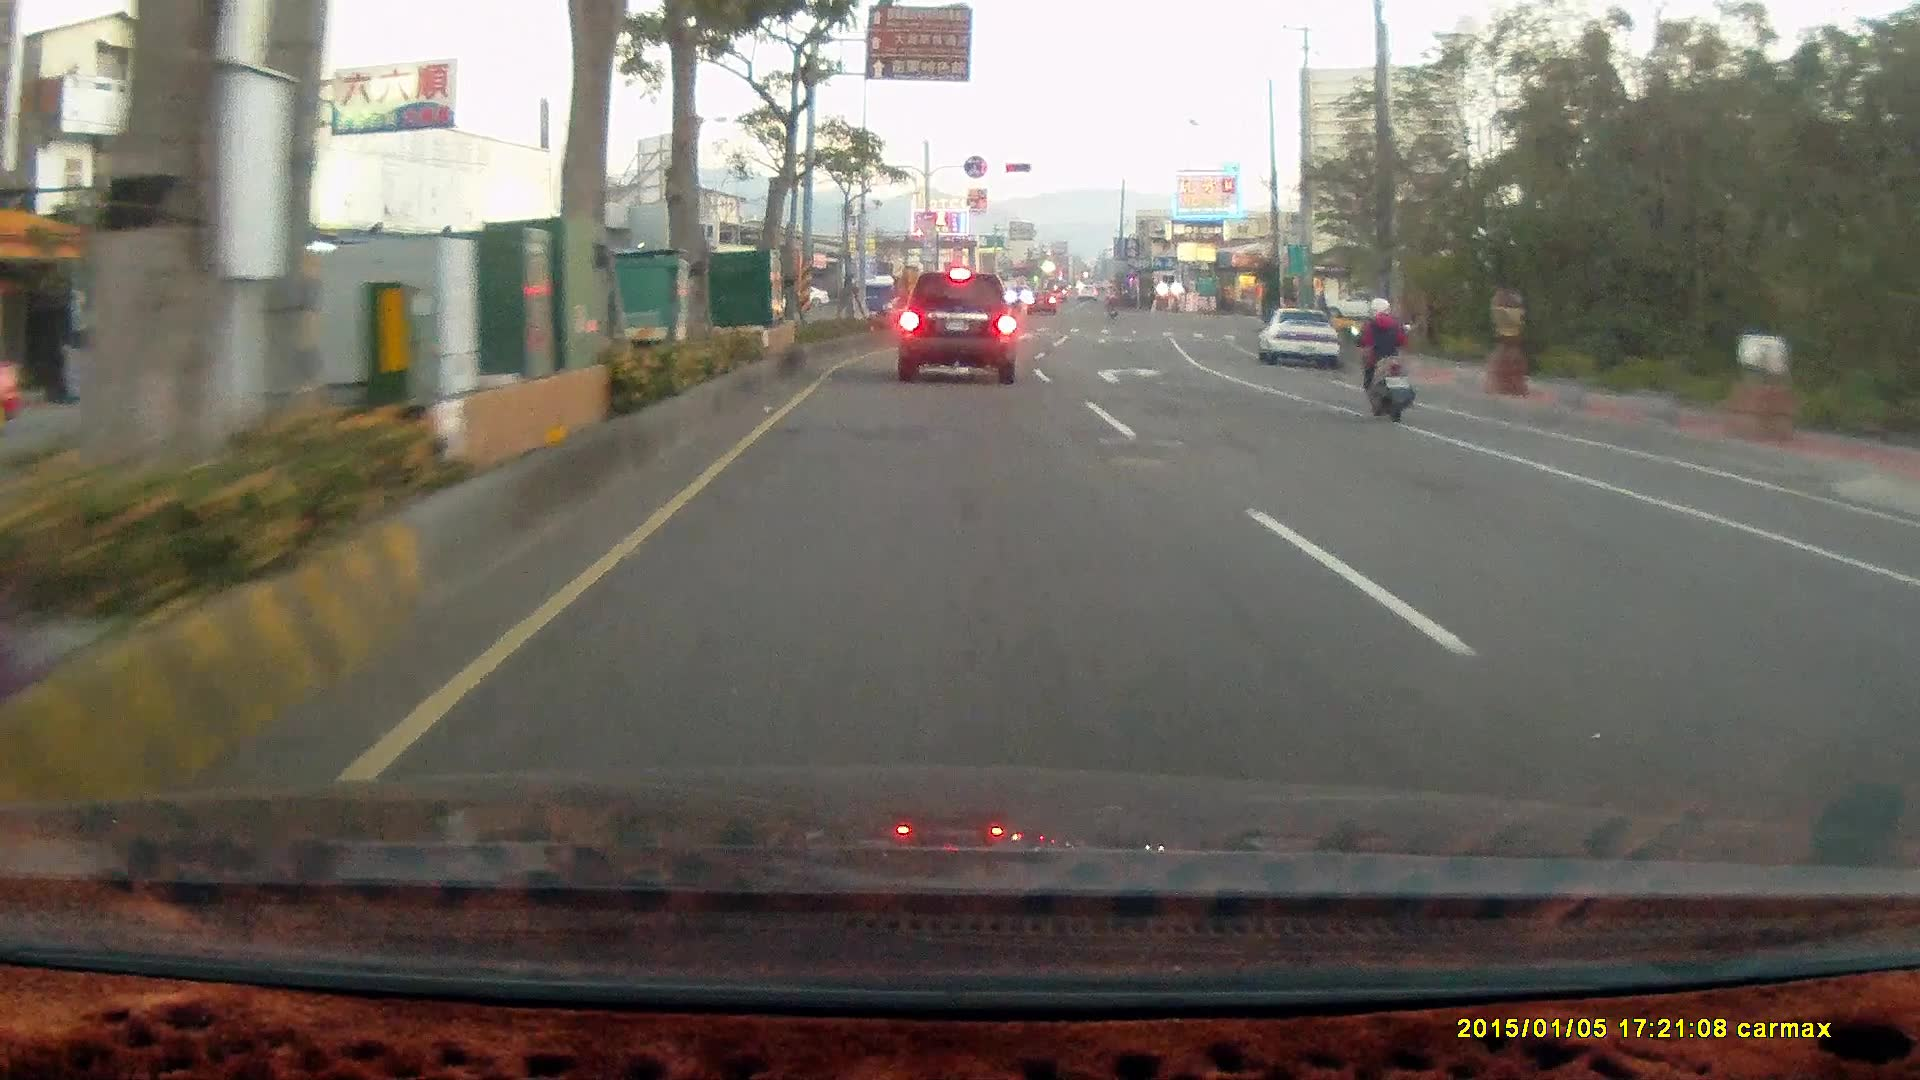rider: (1348, 294, 1415, 423)
vehicle: (897, 270, 1014, 384), (1896, 493, 1920, 836), (1883, 528, 1920, 690), (1258, 307, 1343, 371), (1257, 305, 1341, 368), (1311, 288, 1388, 324)
